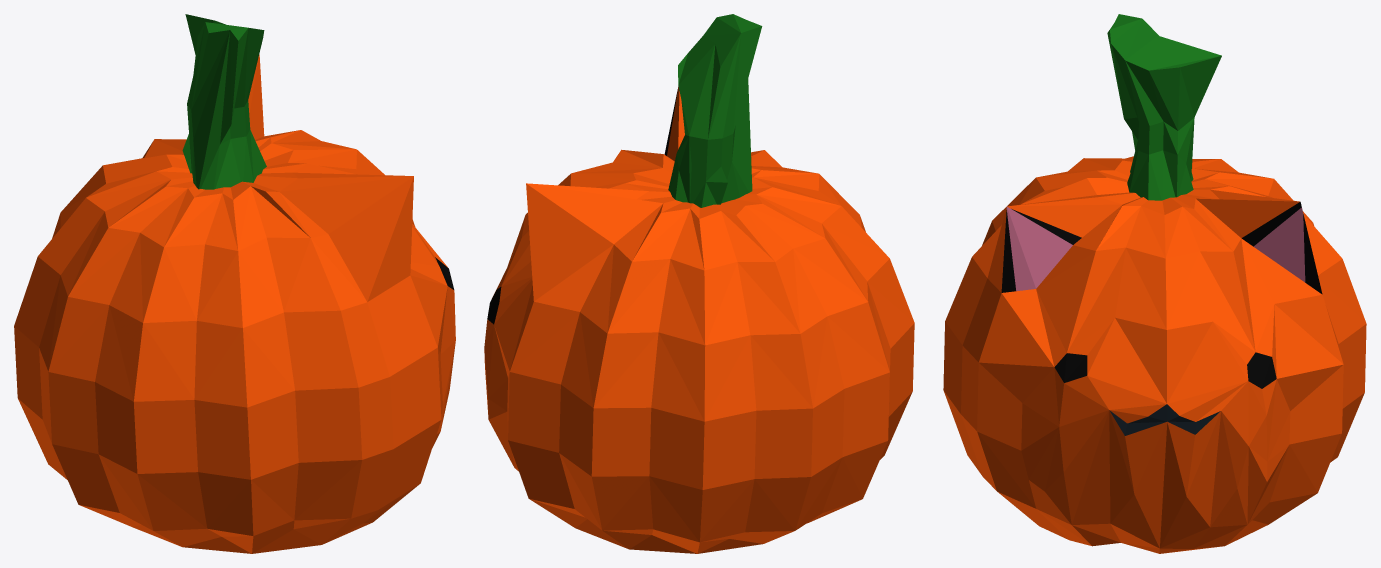
The model's file is bongo_cat.obj.
3 renders of one model, left to right at view 1: azimuth 30°, elevation 25°; view 2: azimuth 150°, elevation 25°; view 3: azimuth 270°, elevation 25°, orthographic. The views are drawn at different scales.
Parts seen in each view (by area): view 1: group1146362798; view 2: group1146362798; view 3: group1146362798.
Part boxes in pixels (box(x1,y1,x2,y2)): group1146362798: box(14, 14, 455, 553); group1146362798: box(484, 14, 914, 553); group1146362798: box(943, 14, 1366, 553).
Bounding box in the file's own units: 0.3452 × 0.4301 × 0.3469.
